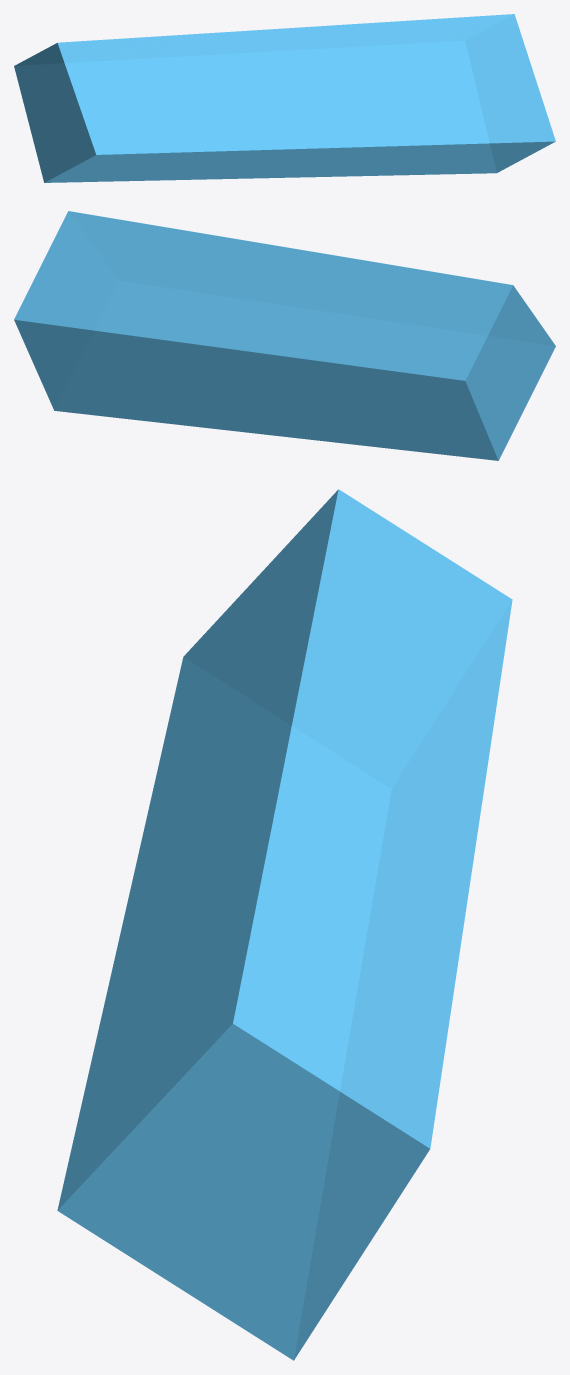
File: Event_420094457_HErechit_75.fbx
3 renders of one model, top to bottom at view 1: azimuth 30°, elevation 25°; view 2: azimuth 150°, elevation 25°; view 3: azimuth 270°, elevation 25°, orthographic. The views are drawn at different scales.
Parts seen in each view (by area): view 1: Model; view 2: Model; view 3: Model.
Part boxes in pixels (x1,y1,x2,y2): Model: (14, 14, 555, 182); Model: (14, 211, 555, 460); Model: (57, 489, 512, 1360).
Bounding box in the file's own units: 1.49 × 0.7525 × 0.6841.
